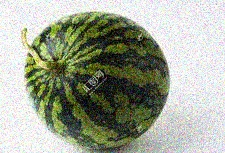watermelon: (18, 12, 169, 151)
